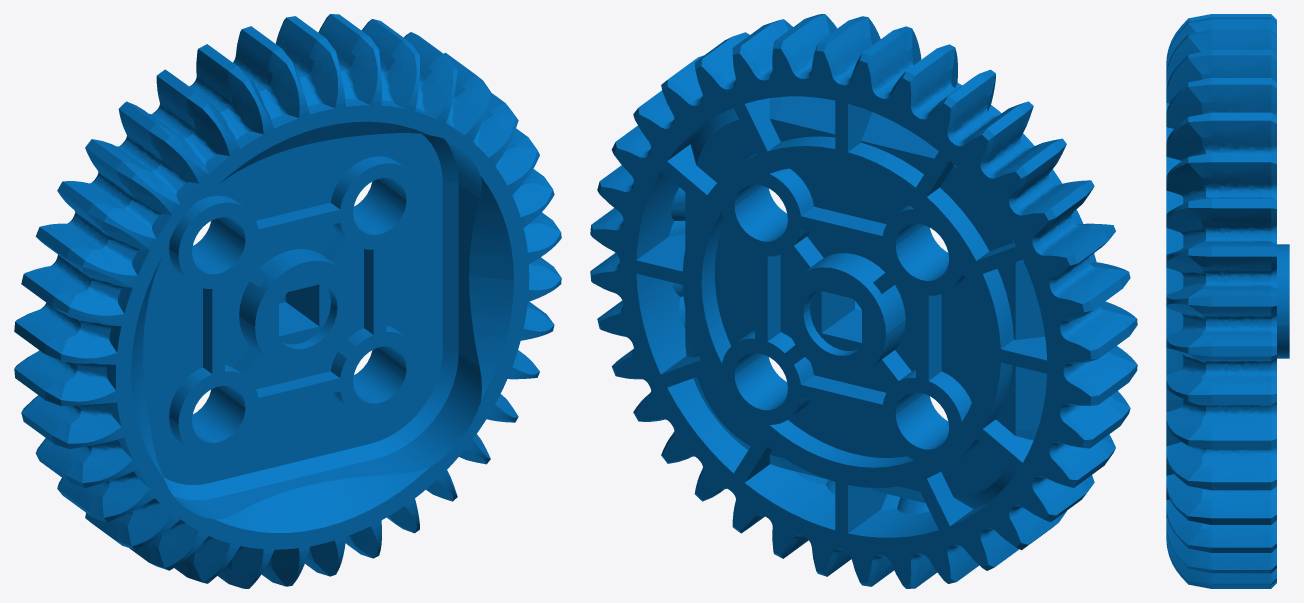
File: 36 Tooth Hybrid Gear (228-2500-252).glb
3 views of the same model, side by side, from view 1: azimuth 30°, elevation 25°; view 2: azimuth 150°, elevation 25°; view 3: azimuth 270°, elevation 25° (orthographic). The views are drawn at different scales.
Visible parts, largest first — view 1: 36 Tooth Hybrid Gear (228-2500-252); view 2: 36 Tooth Hybrid Gear (228-2500-252); view 3: 36 Tooth Hybrid Gear (228-2500-252).
Part boxes in pixels (bbox=[...]): 36 Tooth Hybrid Gear (228-2500-252): bbox=[14, 14, 561, 588]; 36 Tooth Hybrid Gear (228-2500-252): bbox=[590, 14, 1137, 588]; 36 Tooth Hybrid Gear (228-2500-252): bbox=[1166, 14, 1289, 588].
Bounding box in the file's own units: 1.58 × 1.58 × 0.34.
